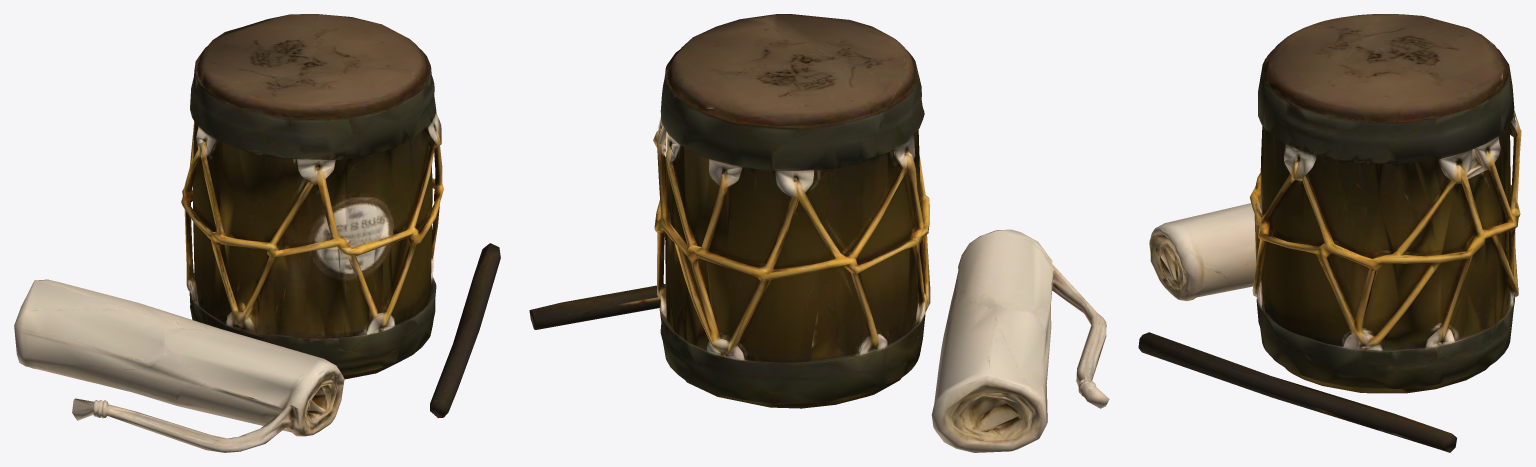
Rendered from modelo.glb.
3 renders of one model, left to right at view 1: azimuth 30°, elevation 25°; view 2: azimuth 150°, elevation 25°; view 3: azimuth 270°, elevation 25°, orthographic. The views are drawn at different scales.
Visible parts, largest first — view 1: node_0; view 2: node_0; view 3: node_0.
Part boxes in pixels (<box>): node_0: <box>14,14,500,452</box>; node_0: <box>529,14,1109,452</box>; node_0: <box>1138,14,1521,452</box>.
Bounding box in the file's own units: 1 × 0.5485 × 0.662.
1 material, 1 textured.
